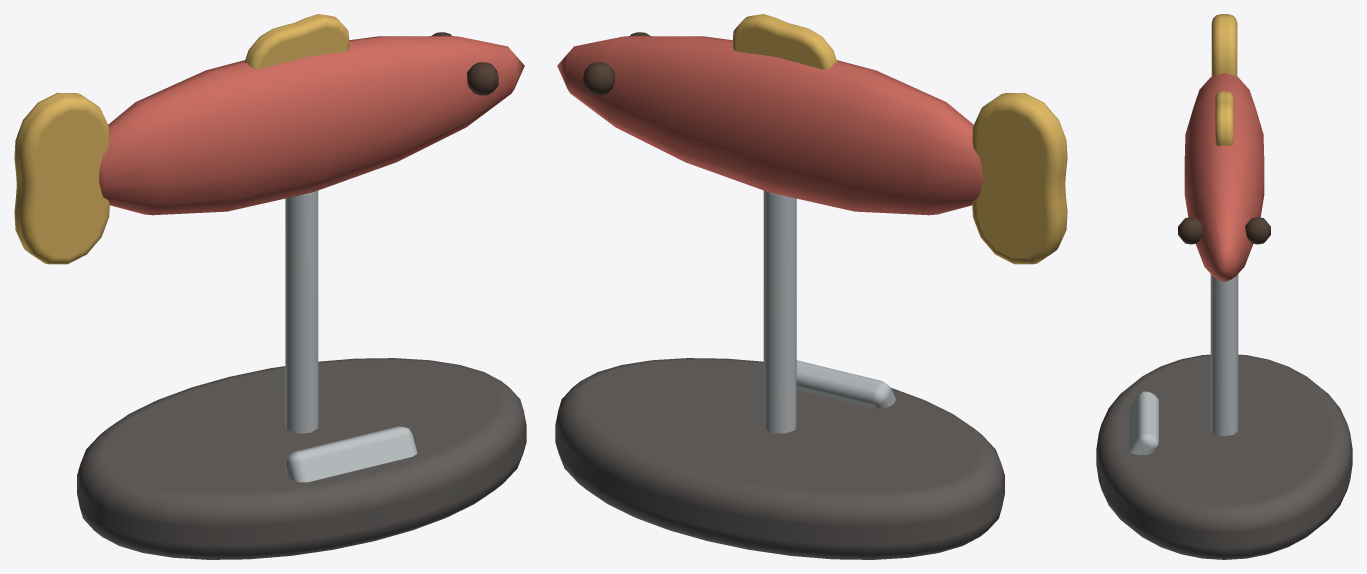
Rendered from arowana_model.glb.
3 views of the same model, side by side, from view 1: azimuth 30°, elevation 25°; view 2: azimuth 150°, elevation 25°; view 3: azimuth 270°, elevation 25° (orthographic). The views are drawn at different scales.
Visible parts, largest first — view 1: arowana_model_mesh; view 2: arowana_model_mesh; view 3: arowana_model_mesh.
Part boxes in pixels (x1,y1,x2,y2): arowana_model_mesh: (14, 14, 526, 559); arowana_model_mesh: (555, 14, 1067, 559); arowana_model_mesh: (1096, 14, 1352, 559).
Bounding box in the file's own units: 0.4088 × 0.3631 × 0.22.
